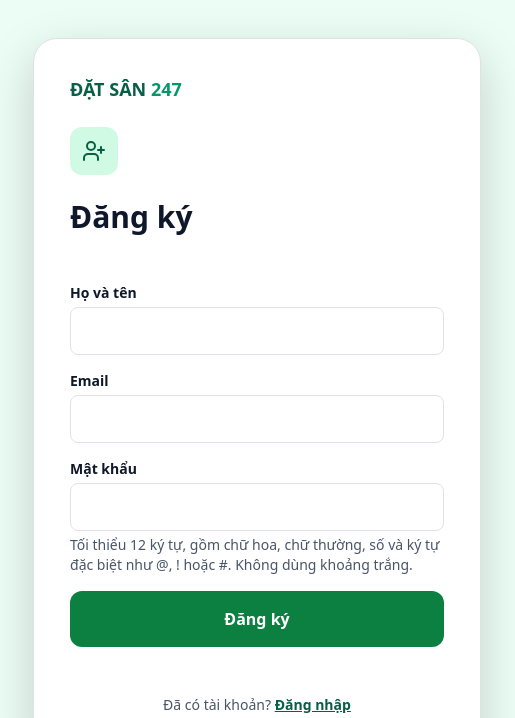
Test: registration page › explains a duplicate email and leaves the form available
Type " Test Customer " into the field labelled "Họ và tên" at (257, 331), box [70,307,444,355]
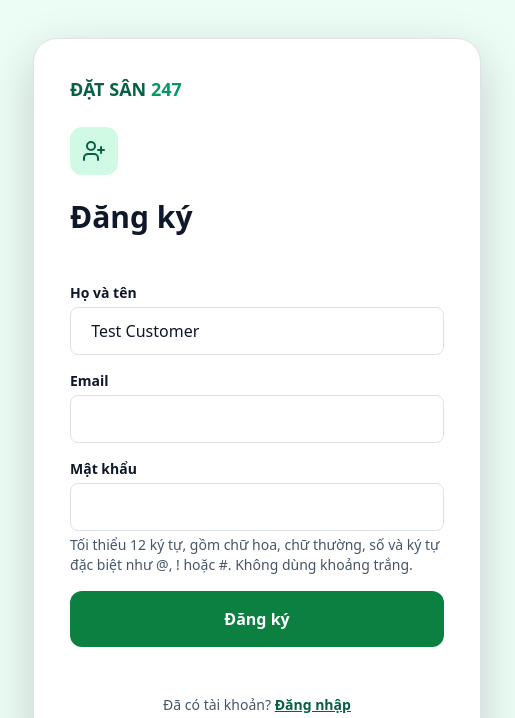
Type "CUSTOMER@example.test" into the field labelled "Email" at (257, 419), box [70,395,444,443]
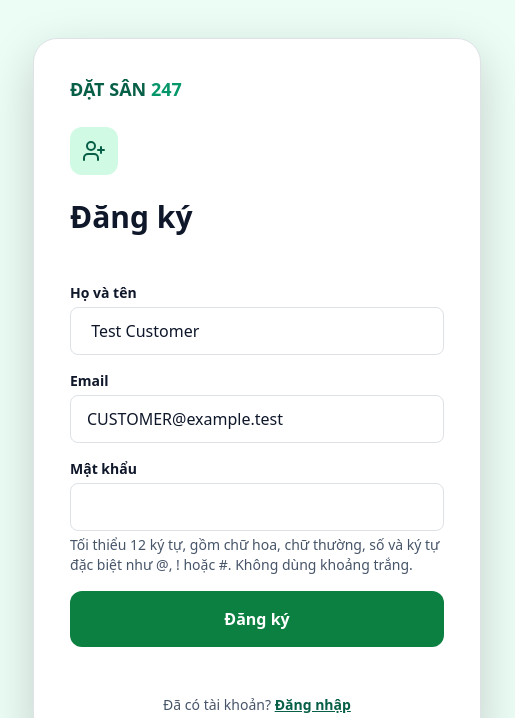
Type "LocalPass1!a" into the password field labelled "Mật khẩu" at (257, 507), box [70,483,444,531]
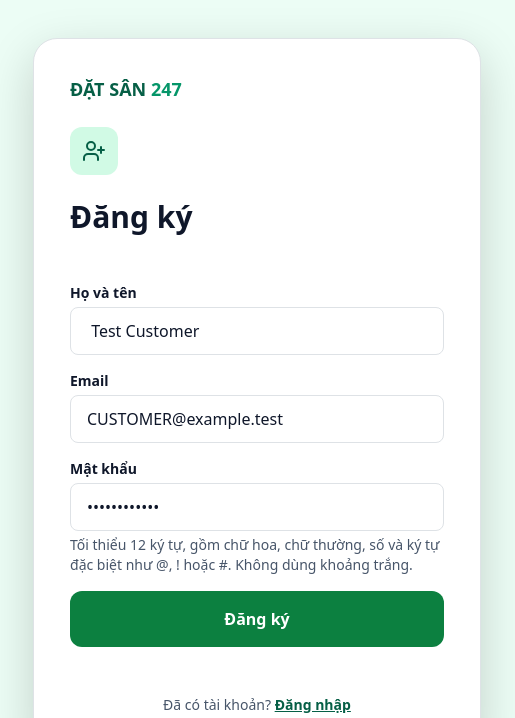
Click the button "Đăng ký" at (257, 619), box [70,591,444,647]
(page scrolled)
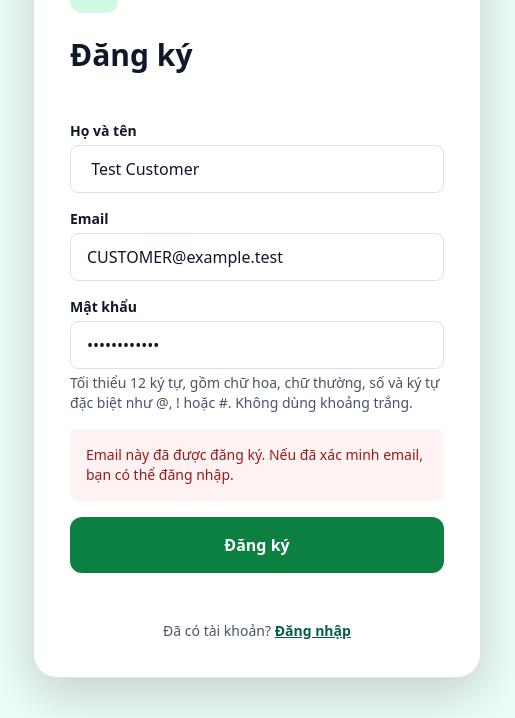
Expected: the button "Đăng ký" is enabled, [70,517,444,573]
Now the message shows "Email này đã được đăng ký", box [86,445,423,484]
